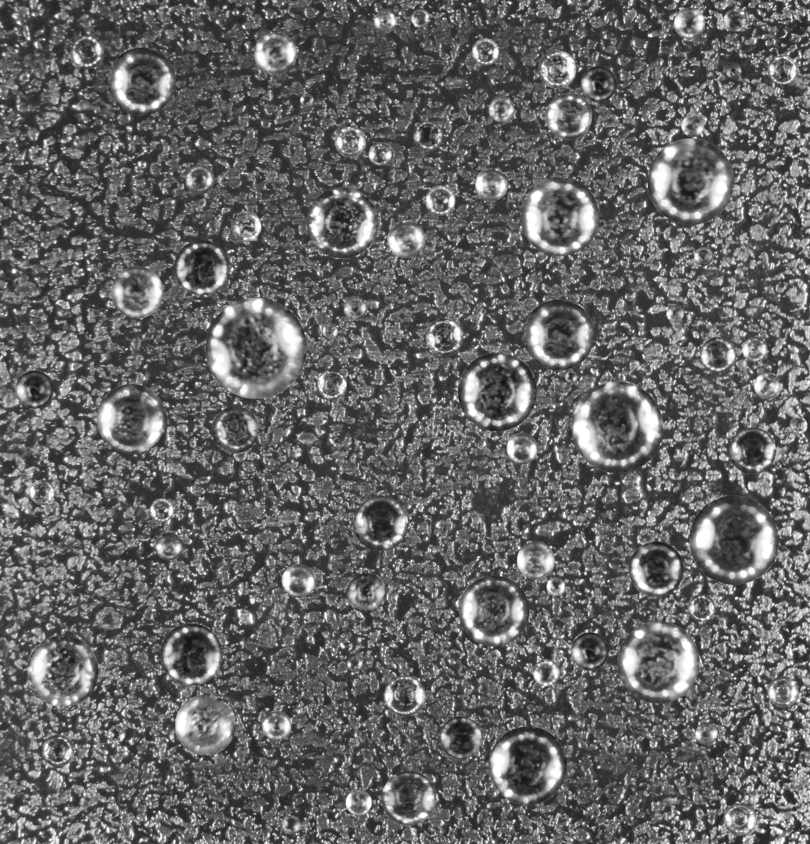Bubble: (205, 297, 306, 398), (571, 381, 663, 473), (689, 495, 778, 584), (647, 138, 734, 224), (617, 621, 699, 703), (458, 352, 536, 431), (520, 177, 599, 255), (488, 726, 566, 804), (458, 575, 529, 646), (523, 299, 594, 370), (307, 187, 378, 258), (27, 635, 98, 706), (96, 384, 165, 453), (107, 47, 175, 115), (160, 623, 222, 685), (175, 694, 235, 755), (628, 541, 683, 596), (353, 496, 408, 551), (381, 771, 436, 825), (174, 240, 228, 295), (111, 266, 163, 318), (729, 427, 776, 474), (545, 93, 592, 139), (212, 406, 258, 453), (439, 716, 481, 759), (254, 32, 296, 74), (384, 675, 425, 716), (346, 573, 386, 612), (387, 220, 425, 258), (538, 50, 576, 88), (15, 370, 53, 408), (571, 632, 608, 670), (425, 318, 463, 355), (517, 541, 554, 579), (700, 337, 736, 373), (581, 66, 616, 101), (70, 35, 104, 68), (281, 564, 315, 597), (475, 167, 508, 200), (723, 803, 756, 836), (42, 734, 73, 766), (335, 126, 366, 157), (506, 433, 537, 464), (767, 676, 798, 707), (674, 7, 705, 38), (425, 185, 455, 215), (261, 710, 291, 740), (231, 211, 261, 241), (185, 164, 214, 194), (767, 55, 797, 84), (317, 369, 346, 399), (413, 121, 442, 150), (471, 38, 499, 65), (155, 532, 182, 560), (532, 659, 559, 686), (688, 594, 715, 621), (754, 372, 780, 398), (345, 789, 371, 815), (488, 96, 514, 121), (742, 337, 767, 362), (29, 480, 54, 504), (149, 498, 173, 522), (723, 8, 747, 31), (343, 297, 366, 320), (368, 142, 391, 165), (695, 722, 717, 744), (681, 114, 703, 136), (374, 10, 396, 32), (694, 246, 713, 265), (281, 815, 300, 834), (411, 8, 429, 27), (546, 577, 565, 595), (666, 304, 684, 322), (789, 416, 807, 434), (724, 62, 741, 79), (108, 725, 125, 742), (322, 323, 338, 338), (347, 656, 362, 671), (300, 93, 313, 107), (565, 370, 577, 383)
